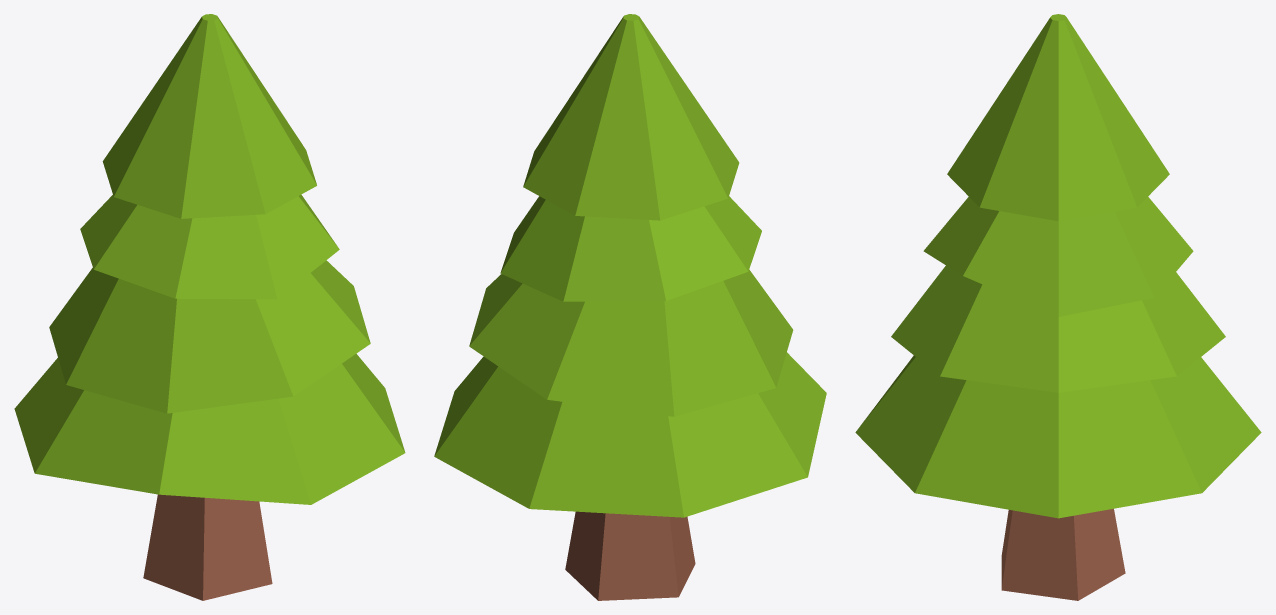
Rendered from low-poly-tree-2.fbx.
3 views of the same model, side by side, from view 1: azimuth 30°, elevation 25°; view 2: azimuth 150°, elevation 25°; view 3: azimuth 270°, elevation 25° (orthographic).
Parts seen in each view (by area): view 1: Circle.004, Circle; view 2: Circle.004, Circle; view 3: Circle.004, Circle.
Part boxes in pixels (x1=…): Circle.004: x1=14, y1=14, x2=405, y2=504; Circle: x1=143, y1=494, x2=272, y2=600; Circle.004: x1=434, y1=14, x2=826, y2=517; Circle: x1=565, y1=511, x2=695, y2=600; Circle.004: x1=855, y1=14, x2=1261, y2=518; Circle: x1=1001, y1=508, x2=1125, y2=600.
Size of the model in its own units: 593 by 895 by 593.
